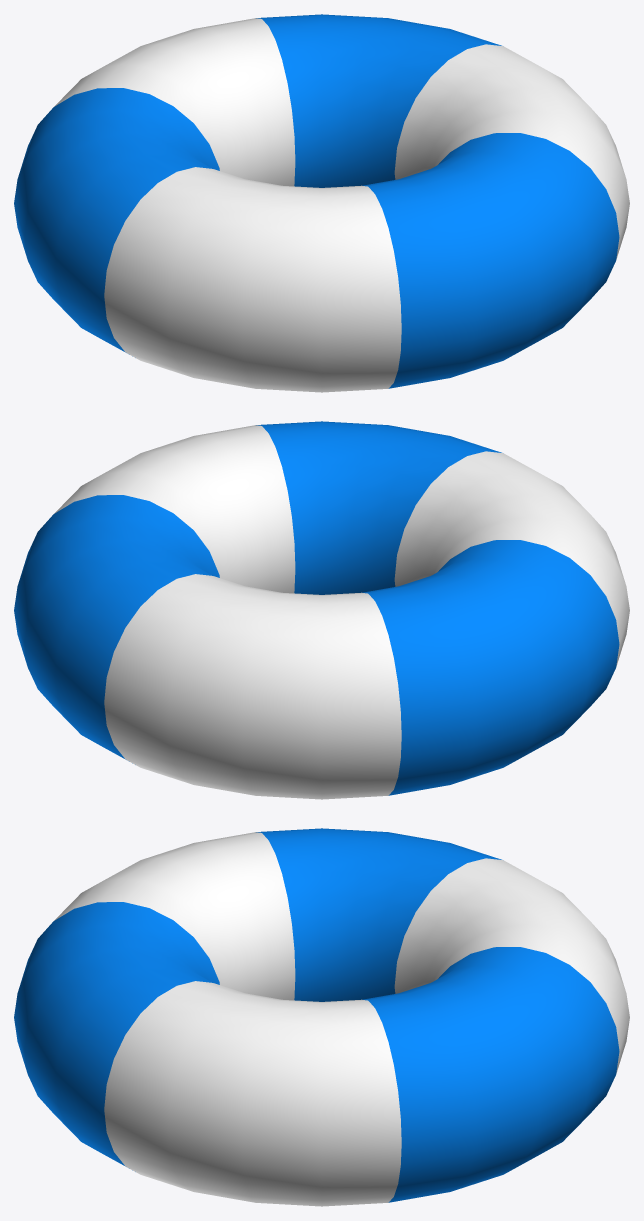
The model's file is BeachTube.glb.
3 views of the same model, one above another, from view 1: azimuth 30°, elevation 25°; view 2: azimuth 150°, elevation 25°; view 3: azimuth 270°, elevation 25° (orthographic).
Parts seen in each view (by area): view 1: BeachTube; view 2: BeachTube; view 3: BeachTube.
Boxes of the visible parts, bbox=[...] form: BeachTube: bbox=[14, 14, 629, 392]; BeachTube: bbox=[14, 421, 629, 799]; BeachTube: bbox=[14, 828, 629, 1206].
Bounding box in the file's own units: 0.0217 × 0.00723 × 0.0217.
